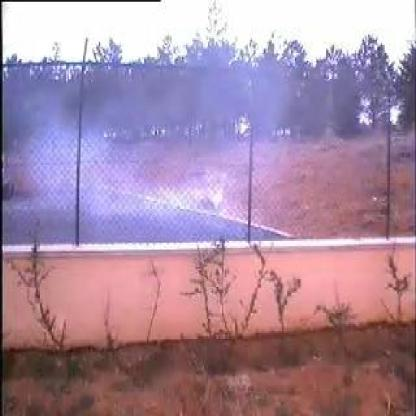-: (80, 63, 252, 244)
